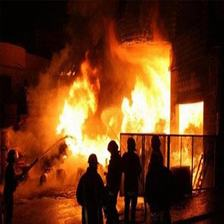fire: (40, 29, 199, 166)
